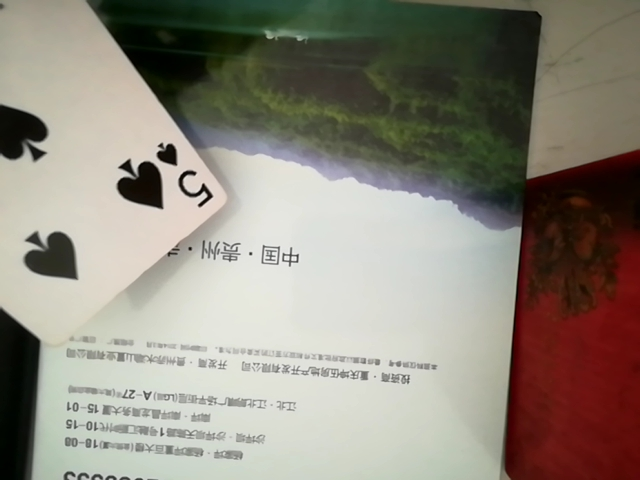ht 5: (0, 0, 227, 352)
